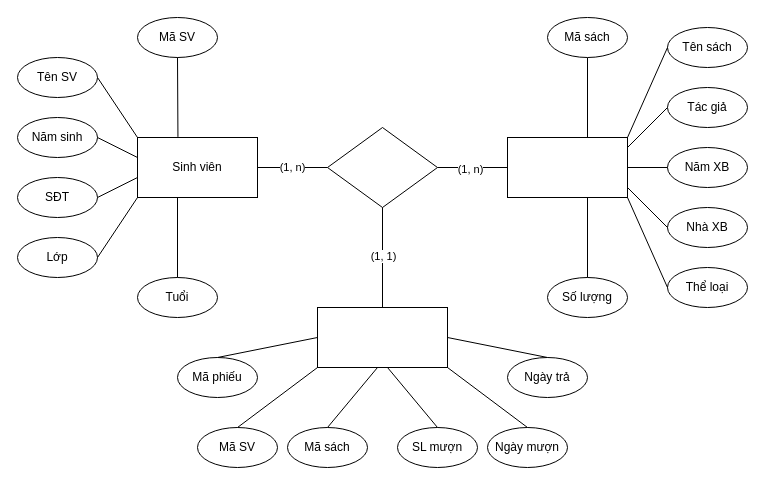
The diagram is 765 pixels wide and 485 high, and some of its shapes have lost their labels. The shapes that lost their labels are listed below. From the top down, each one's centre as x and y in pixels, then its label:
At [382,167]: "Mượn trả".
At [567,167]: "Sách".
At [382,337]: "Phiếu".
